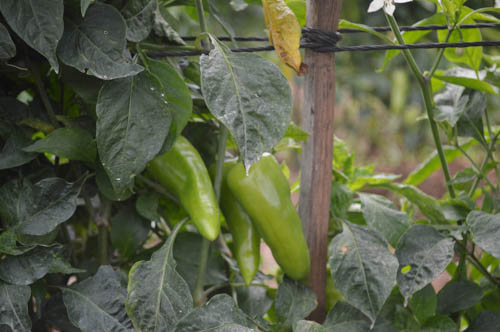ChiliPepper: (233, 155, 307, 279), (158, 139, 217, 238), (212, 162, 259, 286)
